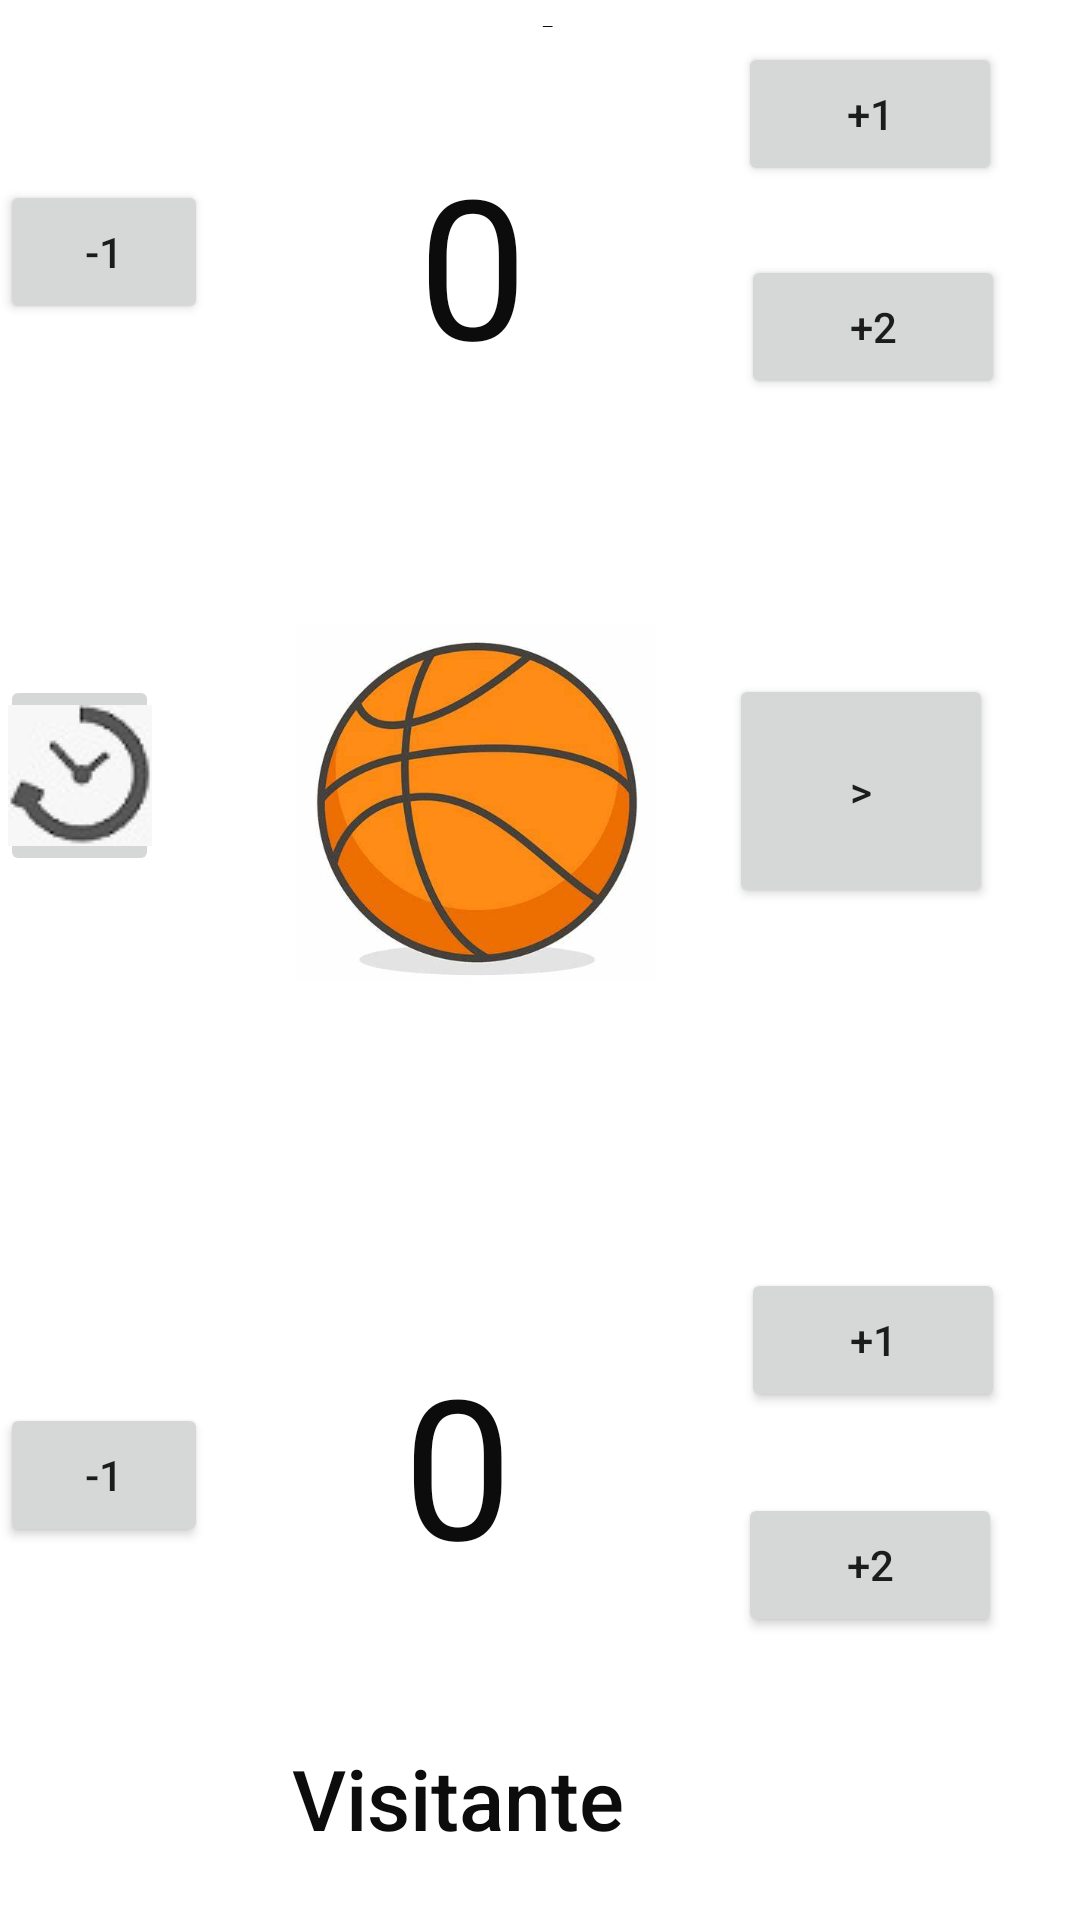

Screen size 1080 x 1920. Icon name, then its center in pixels as point (x, y):
balon: point (477, 808)
